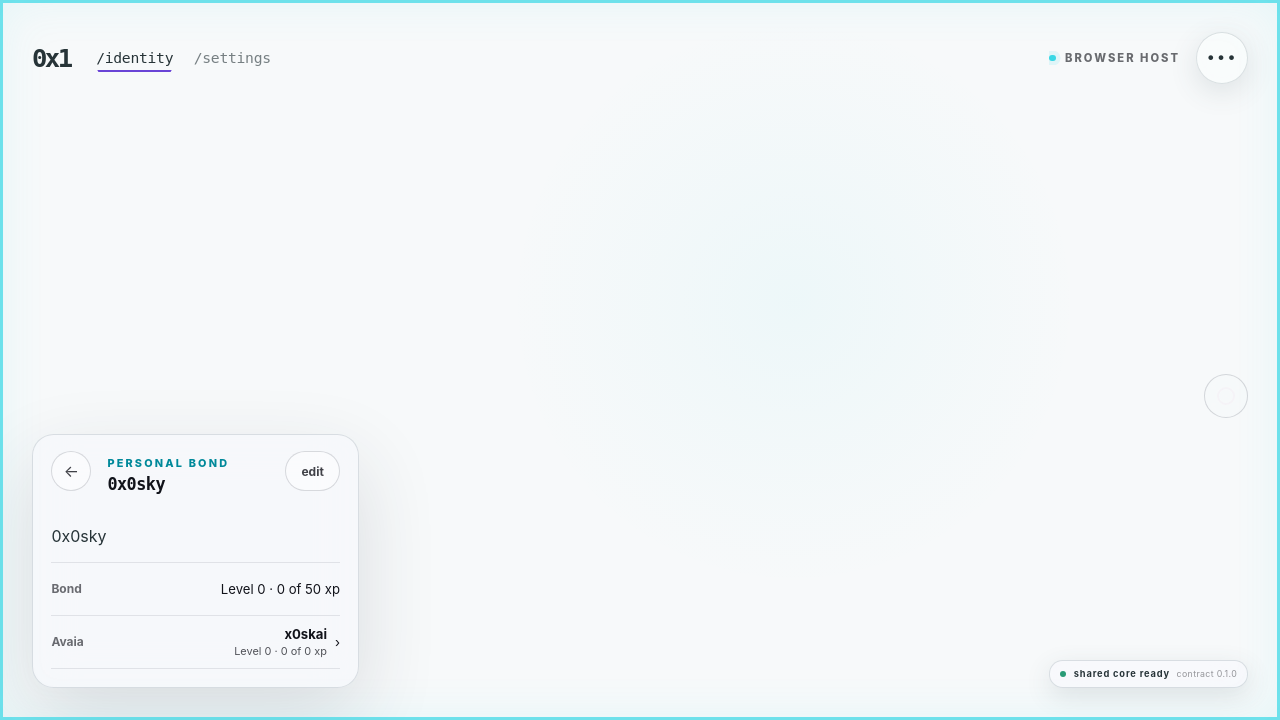
Scenario: AuthenticatedMapHomeView › opens the Providers screen from add, with a connect route each
Click the button with aria-label "Edit this Bond".
click(313, 471)  # box [285, 451, 340, 491]
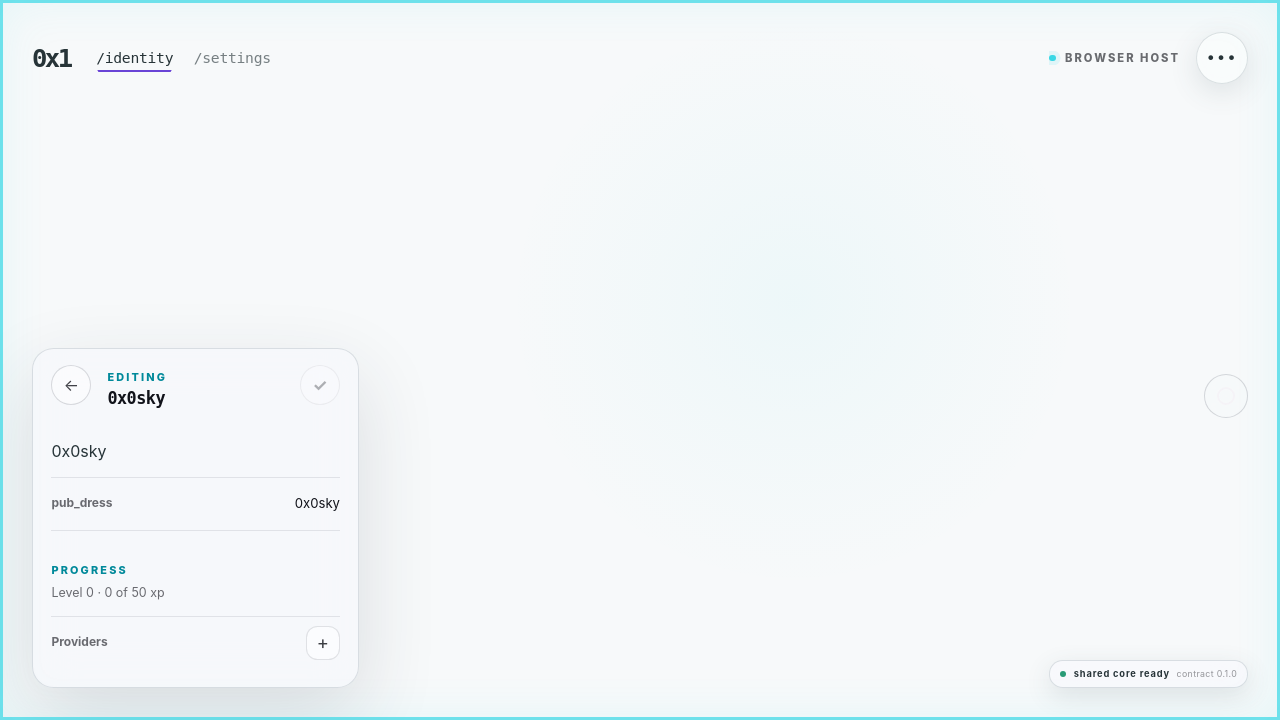
Click the button named "Add a provider".
click(323, 643)  # box [306, 626, 340, 660]
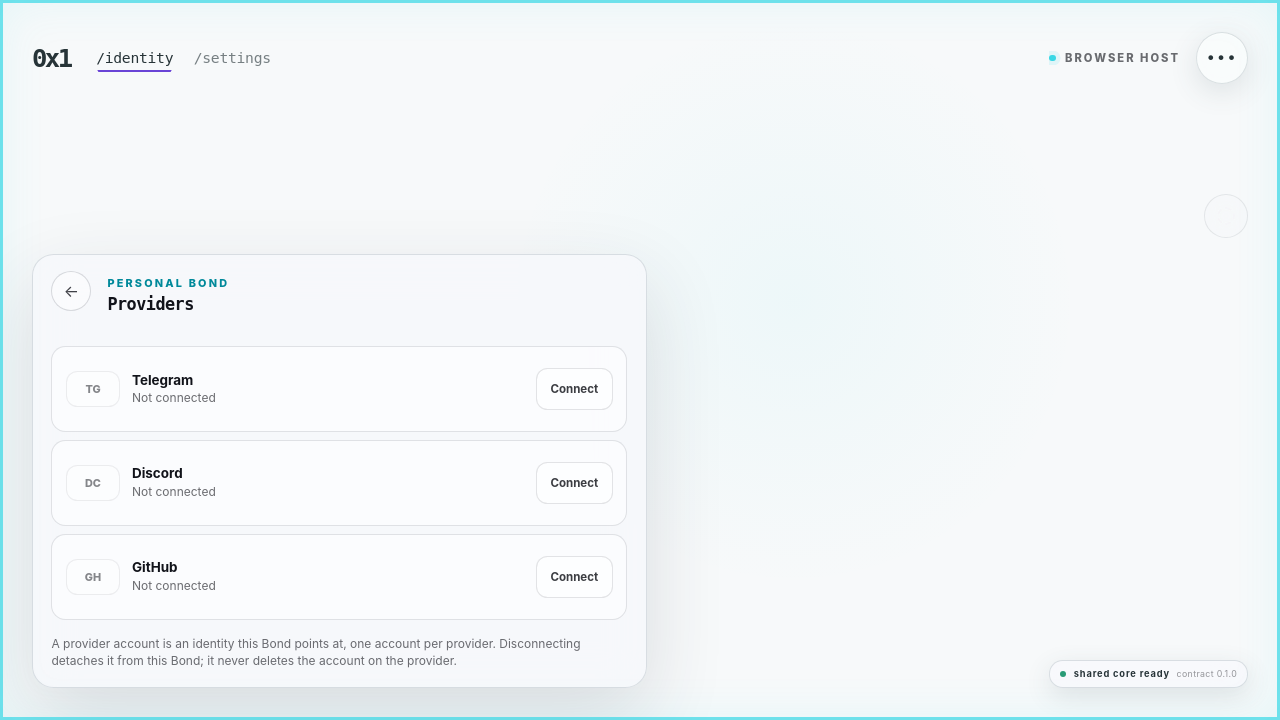
expect the heading "Providers" is shown: met, box [107, 294, 194, 314]
expect the text "Not connected" is shown 3 times: met, box [132, 390, 216, 405]; [132, 484, 216, 499]; [132, 578, 216, 593]
